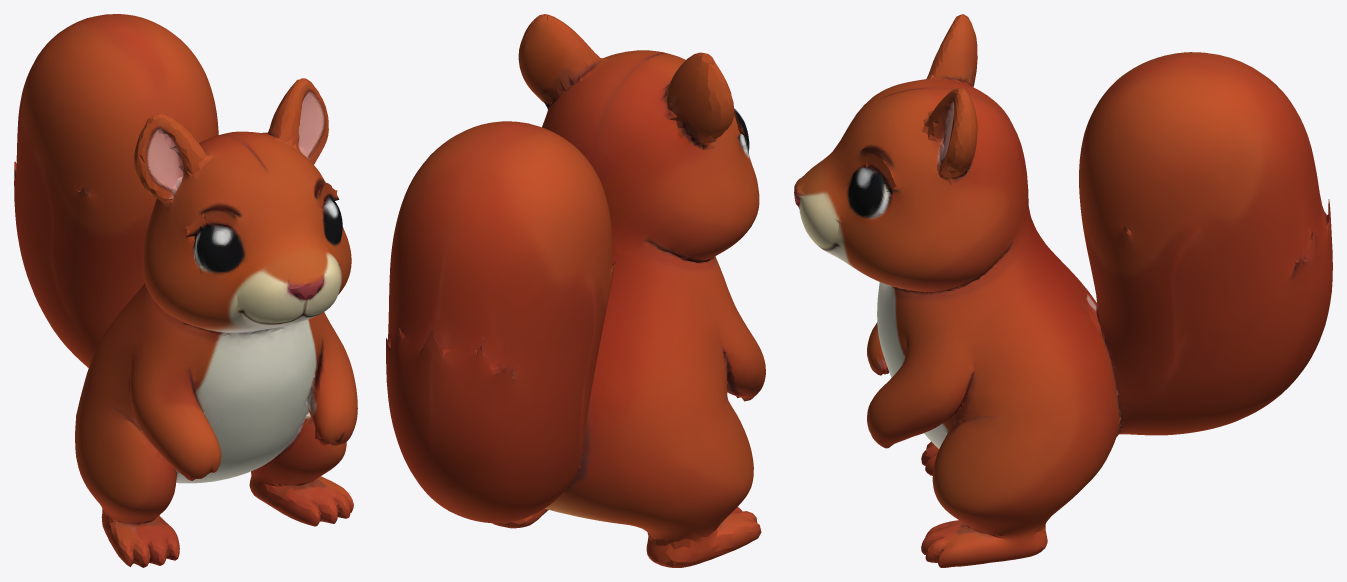
The model's file is squirrel.glb.
The picture shows the model from 3 angles, left to right: view 1: azimuth 30°, elevation 25°; view 2: azimuth 150°, elevation 25°; view 3: azimuth 270°, elevation 25°; orthographic projection. The views are drawn at different scales.
Visible parts, largest first — view 1: squirrel; view 2: squirrel; view 3: squirrel.
Boxes of the visible parts, left/top/right/bottom form: squirrel: left=14, top=14, right=357, bottom=567; squirrel: left=386, top=14, right=765, bottom=567; squirrel: left=794, top=14, right=1332, bottom=567.
Bounding box in the file's own units: 1.05 × 1.79 × 1.9.
Materials: 1 (1 with a texture image).
